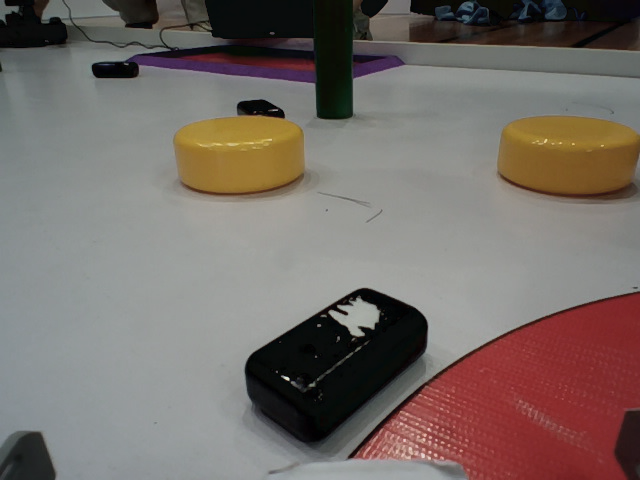black: (241, 280, 434, 448), (228, 90, 298, 136), (83, 54, 142, 85)
kuang: (128, 32, 411, 86)
yellow: (501, 112, 640, 211), (173, 117, 314, 192)
zhuzi: (311, 3, 362, 126)
